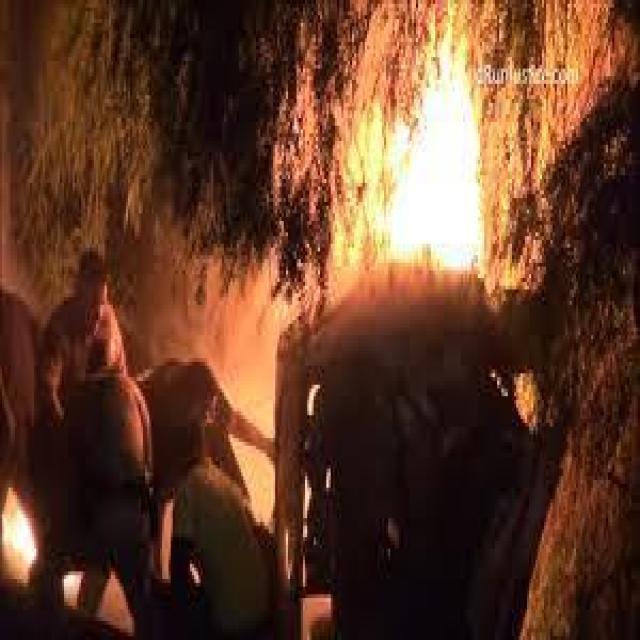fire: (274, 49, 490, 265), (0, 478, 38, 569), (511, 368, 541, 413), (296, 470, 310, 531), (60, 564, 81, 600), (304, 377, 319, 413), (320, 464, 333, 488)
